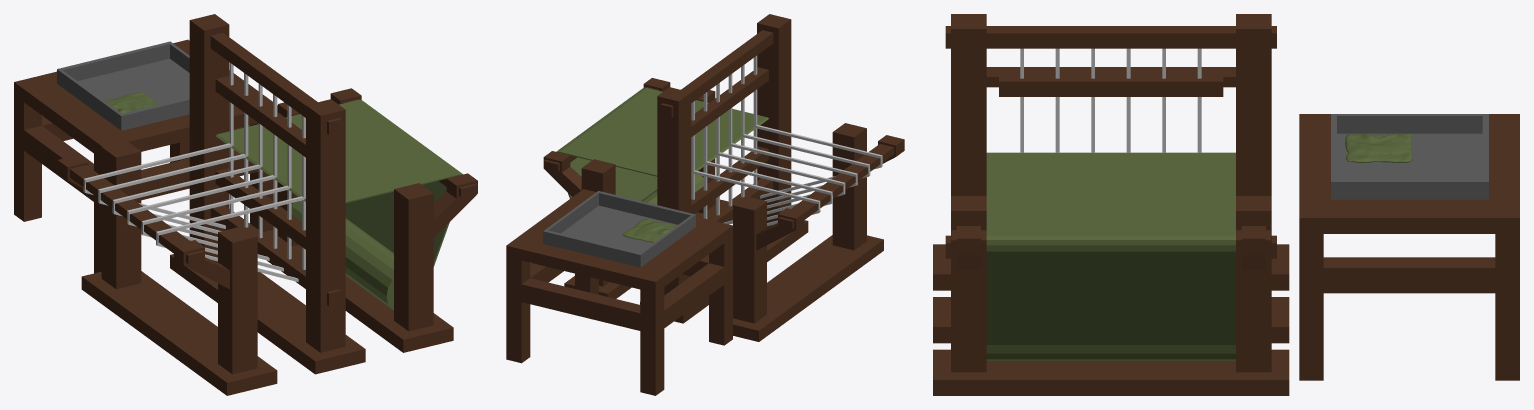
The model's file is cloth_machine.fbx.
3 renders of one model, left to right at view 1: azimuth 30°, elevation 25°; view 2: azimuth 150°, elevation 25°; view 3: azimuth 270°, elevation 25°, orthographic. The views are drawn at different scales.
Visible parts, largest first — view 1: clothmachine, cloth, table, rope, box, clothing; view 2: clothmachine, table, cloth, rope, box, clothing; view 3: clothmachine, cloth, table, box, rope, clothing.
Part boxes in pixels (bbox=[...]): clothmachine: bbox=[57, 14, 477, 395]; cloth: bbox=[215, 100, 462, 310]; table: bbox=[14, 39, 277, 273]; rope: bbox=[83, 62, 305, 282]; box: bbox=[57, 41, 229, 130]; clothing: bbox=[104, 92, 158, 113]; clothmachine: bbox=[543, 14, 904, 341]; table: bbox=[506, 189, 732, 395]; cloth: bbox=[556, 88, 768, 204]; rope: bbox=[691, 55, 882, 226]; box: bbox=[543, 191, 695, 267]; clothing: bbox=[622, 219, 676, 243]; clothmachine: bbox=[933, 14, 1289, 395]; cloth: bbox=[986, 152, 1235, 360]; table: bbox=[1299, 114, 1519, 380]; box: bbox=[1331, 114, 1488, 199]; rope: bbox=[1020, 48, 1201, 152]; clothing: bbox=[1345, 133, 1412, 162].
Size of the model in its own units: 234 by 190 by 329.
